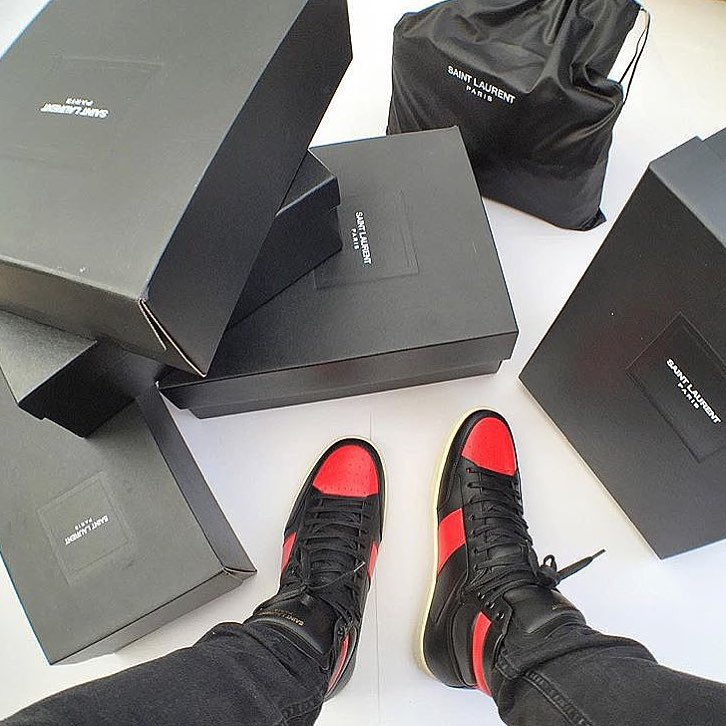sneaker: (405, 394, 582, 705), (246, 424, 402, 715)
